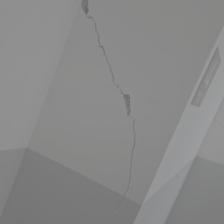High: (74, 1, 137, 224)
